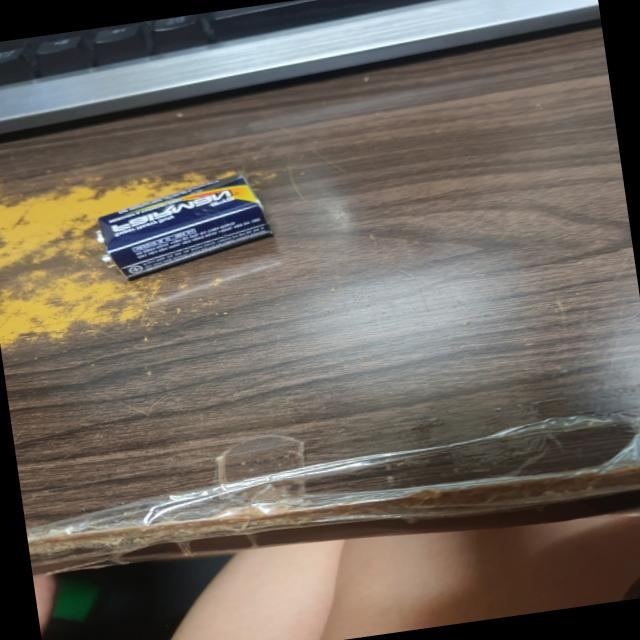battery-etc-etc: (79, 158, 282, 294)
